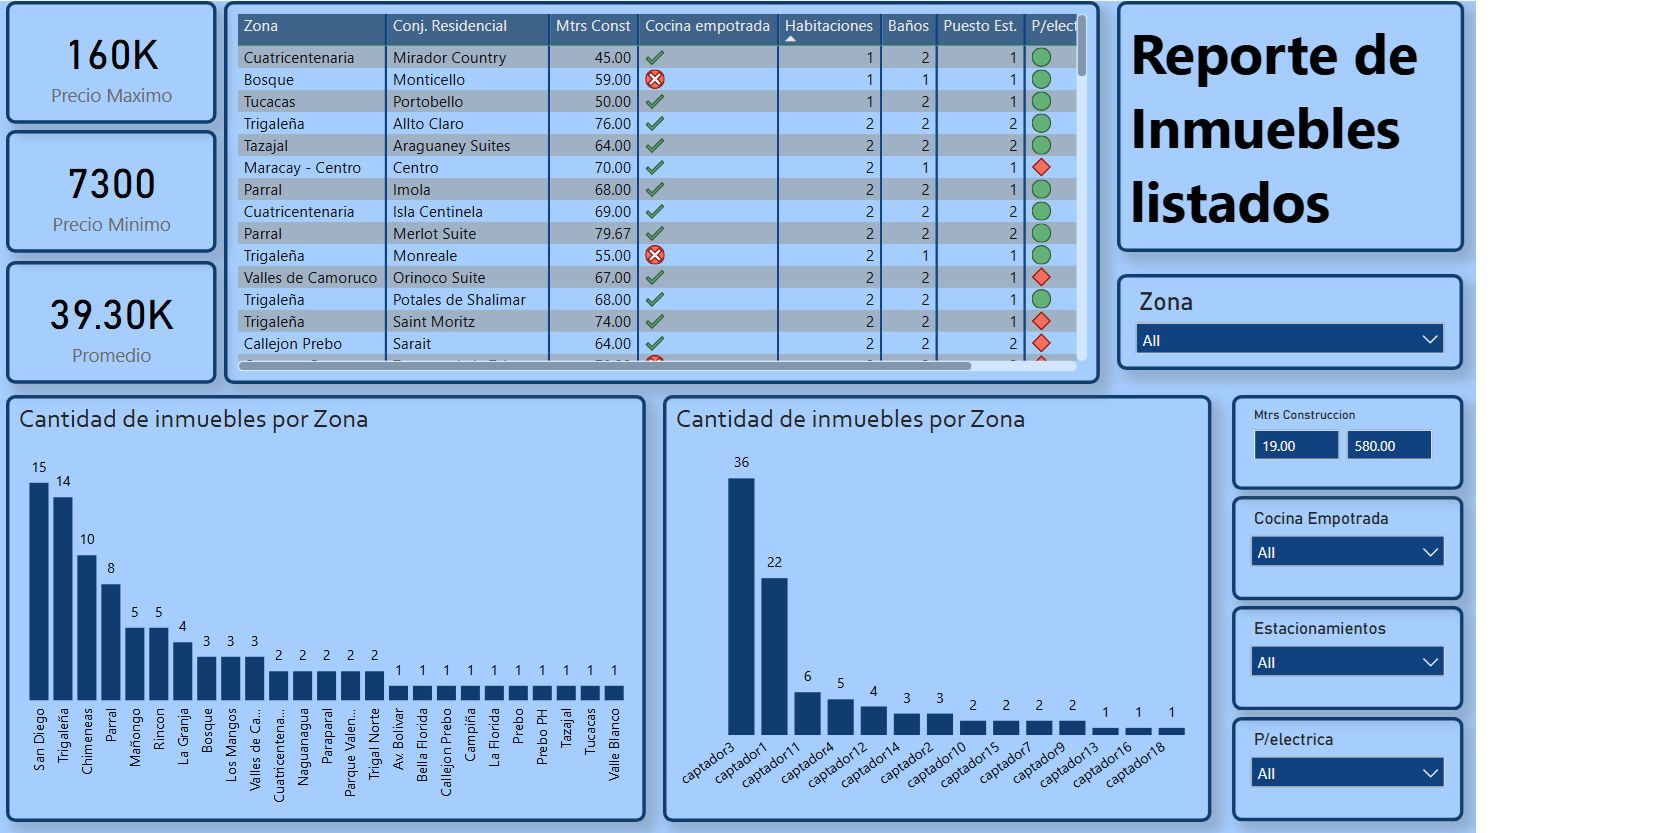

The page's visual inventory and layout, read from the dashboard file:
{"tool":"powerbi","page":{"name":"Página 1","canvas":[1280,720],"ordinal":0},"visuals":[{"type":"columnChart","title":"Cantidad de inmuebles por Zona","fields":{"Category":["Sheet1.Zona"],"Y":["CountNonNull(Sheet1.Cod Inm)"]},"box":[7.1,340.7,553.3,368.9],"z":0},{"type":"card","fields":{"Values":["Sheet1.max"]},"box":[7.1,0,182.4,105.8],"z":1000},{"type":"card","fields":{"Values":["Sheet1.MIN"]},"box":[7.1,111.9,182.4,105.8],"z":2000},{"type":"card","fields":{"Values":["Sheet1.avg"]},"box":[7.1,224.8,182.4,105.8],"z":3000},{"type":"columnChart","title":"Cantidad de inmuebles por Zona","fields":{"Y":["CountNonNull(Sheet1.Cod Inm)"],"Category":["Sheet1.CAPTADOR"]},"box":[574.5,340.7,473.7,368.9],"z":4000},{"type":"tableEx","fields":{"Values":["Sheet1.Zona","Sheet1.Conj. Residencial","Sum(Sheet1.Mtrs Const)","Sheet1.C/E","Sum(Sheet1.Hab)","Sum(Sheet1.Baños)","Sum(Sheet1.P/E)","Sheet1.P/electrica","Sum(Sheet1.Precio)"]},"box":[195.5,0,756.9,330.6],"z":5000},{"type":"slicer","fields":{"Values":["Sheet1.C/E"]},"box":[1066.7,428.3,200.4,89.6],"z":6000},{"type":"slicer","fields":{"Values":["Sheet1.Mtrs Const"]},"box":[1066.7,340.5,200.4,82.5],"z":7000},{"type":"slicer","fields":{"Values":["Sheet1.P/E"]},"box":[1066.7,523.2,200.4,89.6],"z":8000},{"type":"slicer","fields":{"Values":["Sheet1.P/electrica"]},"box":[1066.7,618.9,200.4,90.4],"z":9000},{"type":"textbox","box":[967.4,0,299.7,217.2],"z":9001},{"type":"slicer","fields":{"Values":["Sheet1.Zona"]},"box":[967.6,235.8,299.3,82.6],"z":9002}]}

Visuals, with their boxes in screenshot pixels (x1, y1, x2, y2):
"Cantidad de inmuebles por Zona" columnChart: l=21, t=388, r=651, b=808
card - Sheet1.max: l=21, t=0, r=229, b=120
card - Sheet1.MIN: l=21, t=127, r=229, b=248
card - Sheet1.avg: l=21, t=256, r=229, b=376
"Cantidad de inmuebles por Zona" columnChart: l=667, t=388, r=1206, b=808
tableEx - Sheet1.Zona x Sheet1.Conj. Residencial: l=236, t=0, r=1097, b=376
slicer - Sheet1.C/E: l=1227, t=488, r=1456, b=590
slicer - Sheet1.Mtrs Const: l=1227, t=388, r=1456, b=482
slicer - Sheet1.P/E: l=1227, t=596, r=1456, b=698
slicer - Sheet1.P/electrica: l=1227, t=705, r=1456, b=808
textbox: l=1114, t=0, r=1456, b=247
slicer - Sheet1.Zona: l=1115, t=268, r=1455, b=363
